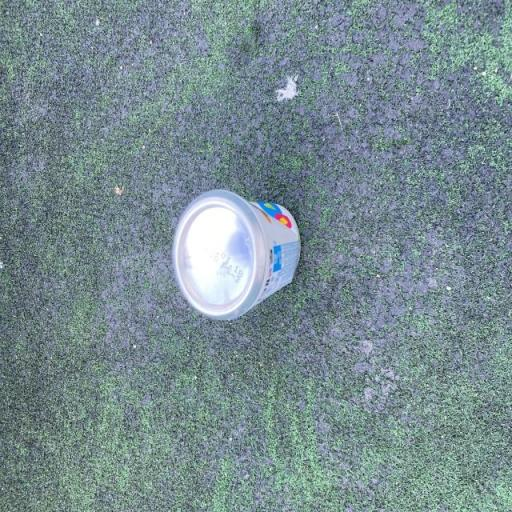metal: (162, 179, 312, 343)
